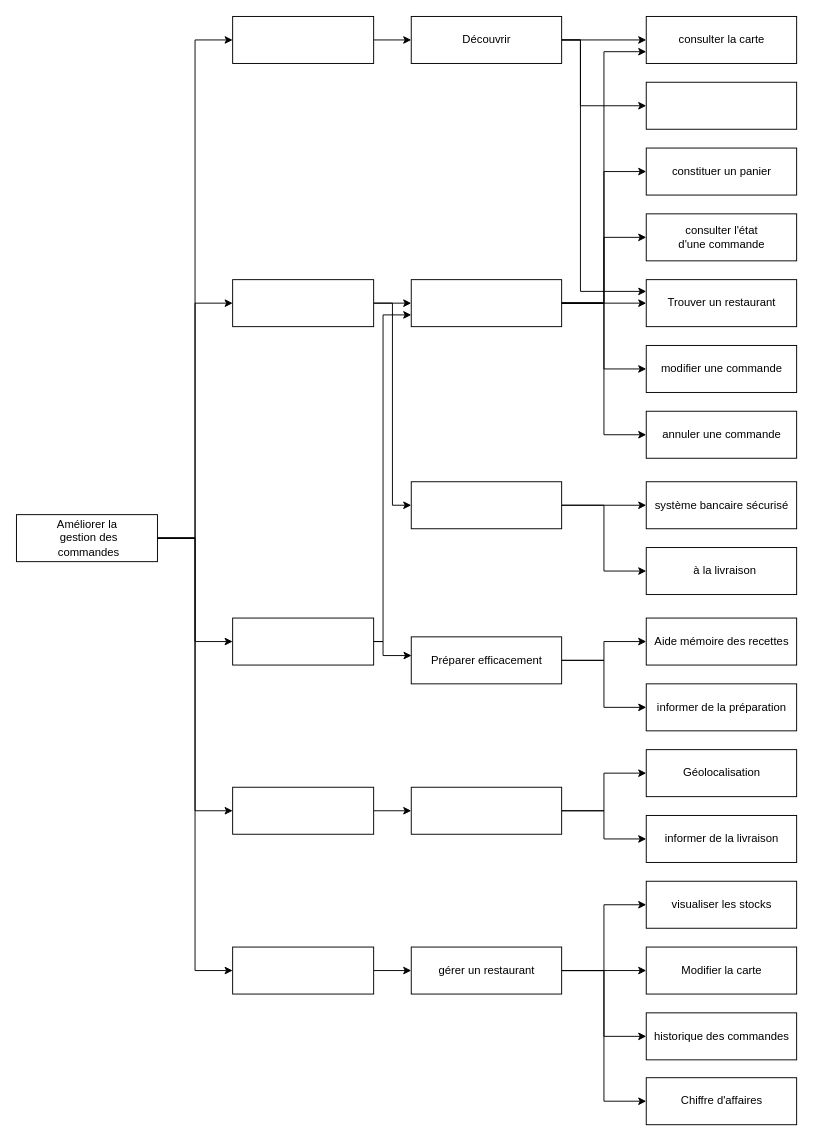
The diagram is 813 pixels wide and 1141 high, and some of its shapes have lost their labels. The shapes that lost their labels are listed below. From the top down, each one's centre as x and y in pixels, then its label:
At (303,39): "visiteur".
At (721,105): "s'inscrire".
At (303,303): "Client".
At (486,303): "Commander facilement".
At (486,505): "Payer une commande".
At (303,641): "Pizzaiolo".
At (303,810): "Livreur".
At (486,810): "livraison de la commande".
At (303,970): "Responsable".
